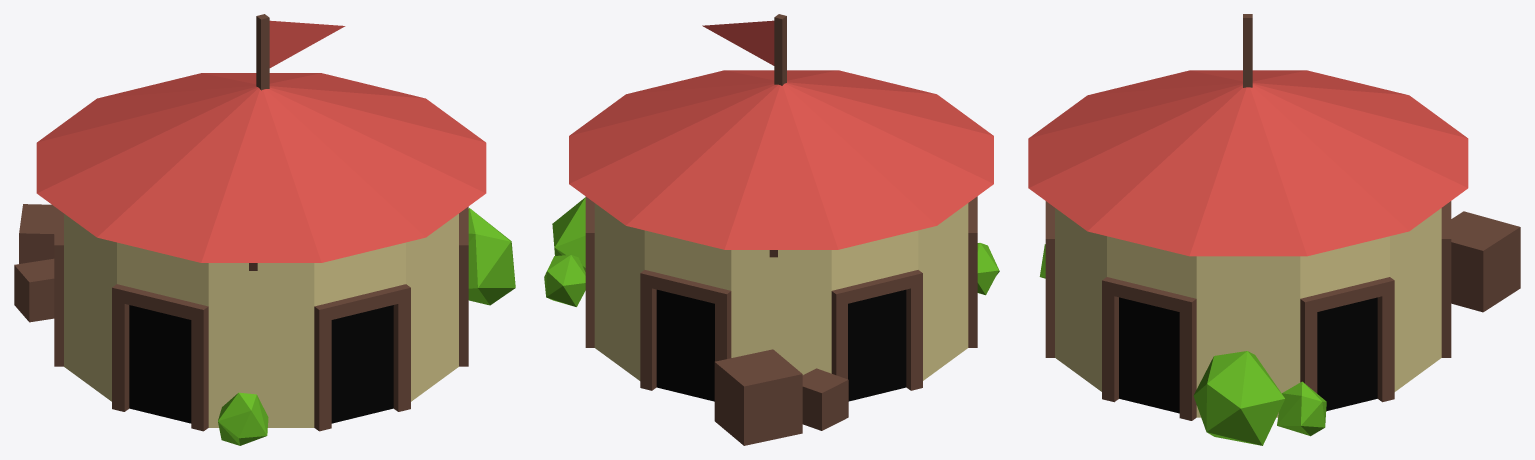
Rendered from home-hut.glb.
3 views of the same model, side by side, from view 1: azimuth 30°, elevation 25°; view 2: azimuth 150°, elevation 25°; view 3: azimuth 270°, elevation 25° (orthographic). The views are drawn at different scales.
Parts seen in each view (by area): view 1: Cylinder, Sphere, Cube.001, Sphere.002, Cube, Plane, Cube.007; view 2: Cylinder, Cube, Cube.001, Sphere.001, Plane, Sphere, Cube.007, Sphere.002; view 3: Cylinder, Sphere, Cube, Sphere.001, Cube.007.
Part boxes in pixels (bbox=[...]): Cylinder: bbox=[36, 73, 486, 431]; Sphere: bbox=[468, 208, 515, 305]; Cube.001: bbox=[14, 258, 54, 322]; Sphere.002: bbox=[218, 392, 268, 445]; Cube: bbox=[19, 204, 54, 263]; Plane: bbox=[269, 20, 345, 67]; Cube.007: bbox=[256, 14, 269, 90]; Cylinder: bbox=[569, 70, 993, 401]; Cube: bbox=[714, 349, 802, 445]; Cube.001: bbox=[802, 368, 848, 430]; Sphere.001: bbox=[544, 254, 585, 306]; Plane: bbox=[702, 20, 774, 65]; Sphere: bbox=[552, 197, 585, 271]; Cube.007: bbox=[774, 14, 786, 85]; Sphere.002: bbox=[977, 243, 999, 295]; Cylinder: bbox=[1028, 70, 1468, 420]; Sphere: bbox=[1193, 351, 1284, 445]; Cube: bbox=[1451, 211, 1520, 312]; Sphere.001: bbox=[1277, 381, 1326, 436]; Cube.007: bbox=[1243, 14, 1252, 87].
Bounding box in the file's own units: 0.5228 × 0.3711 × 0.5163.
